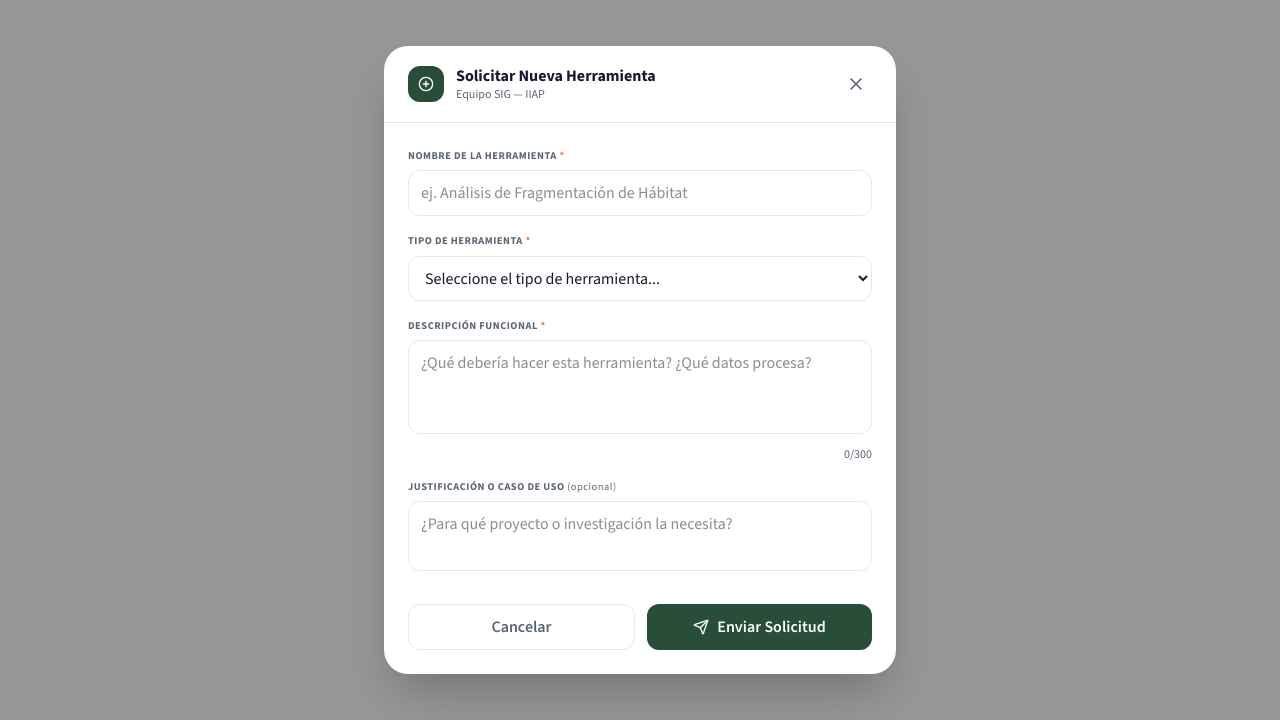
Scenario: SolicitarHerramientaModal — validación › nombre, tipo y descripción son obligatorios
Step 1. Click the button "Enviar Solicitud" → (760, 627), box [647, 604, 872, 650]
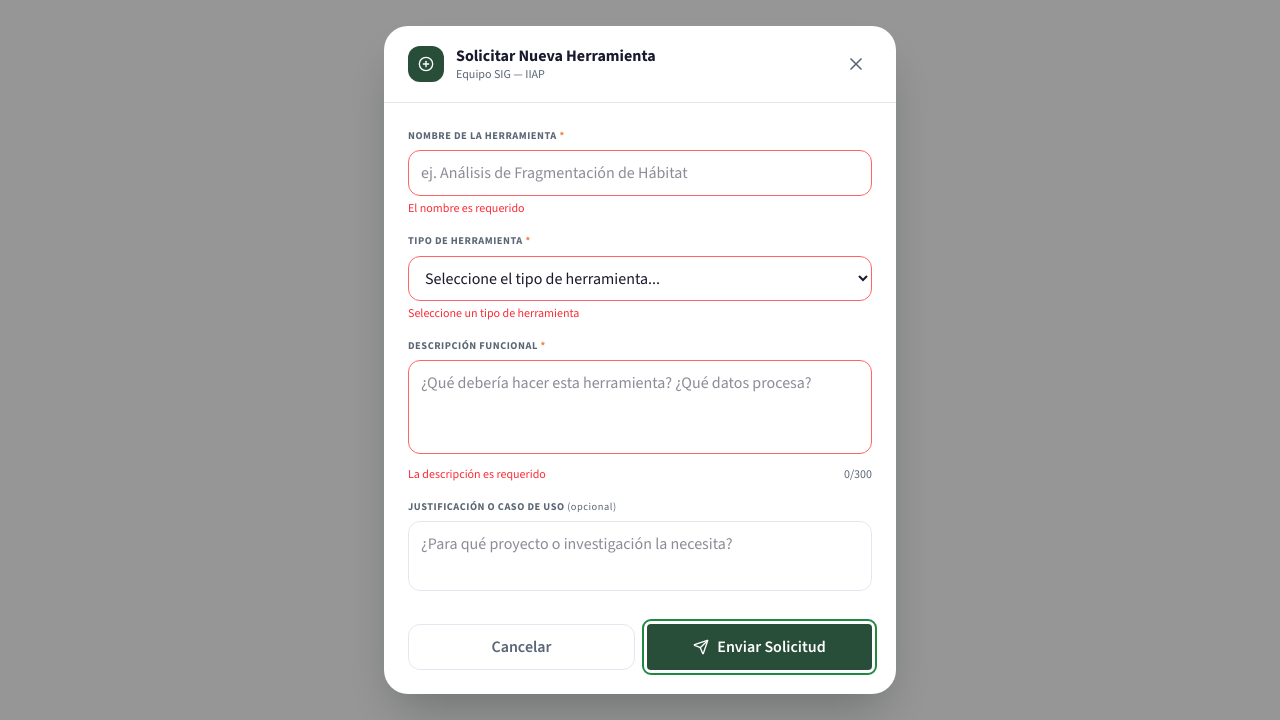
Result: the text "El nombre es requerido" is shown at [408, 200, 525, 216]
Result: the text "Seleccione un tipo de herramienta" is shown at [408, 305, 579, 321]
Result: the text "La descripción es requerido" is shown at [408, 466, 546, 482]
